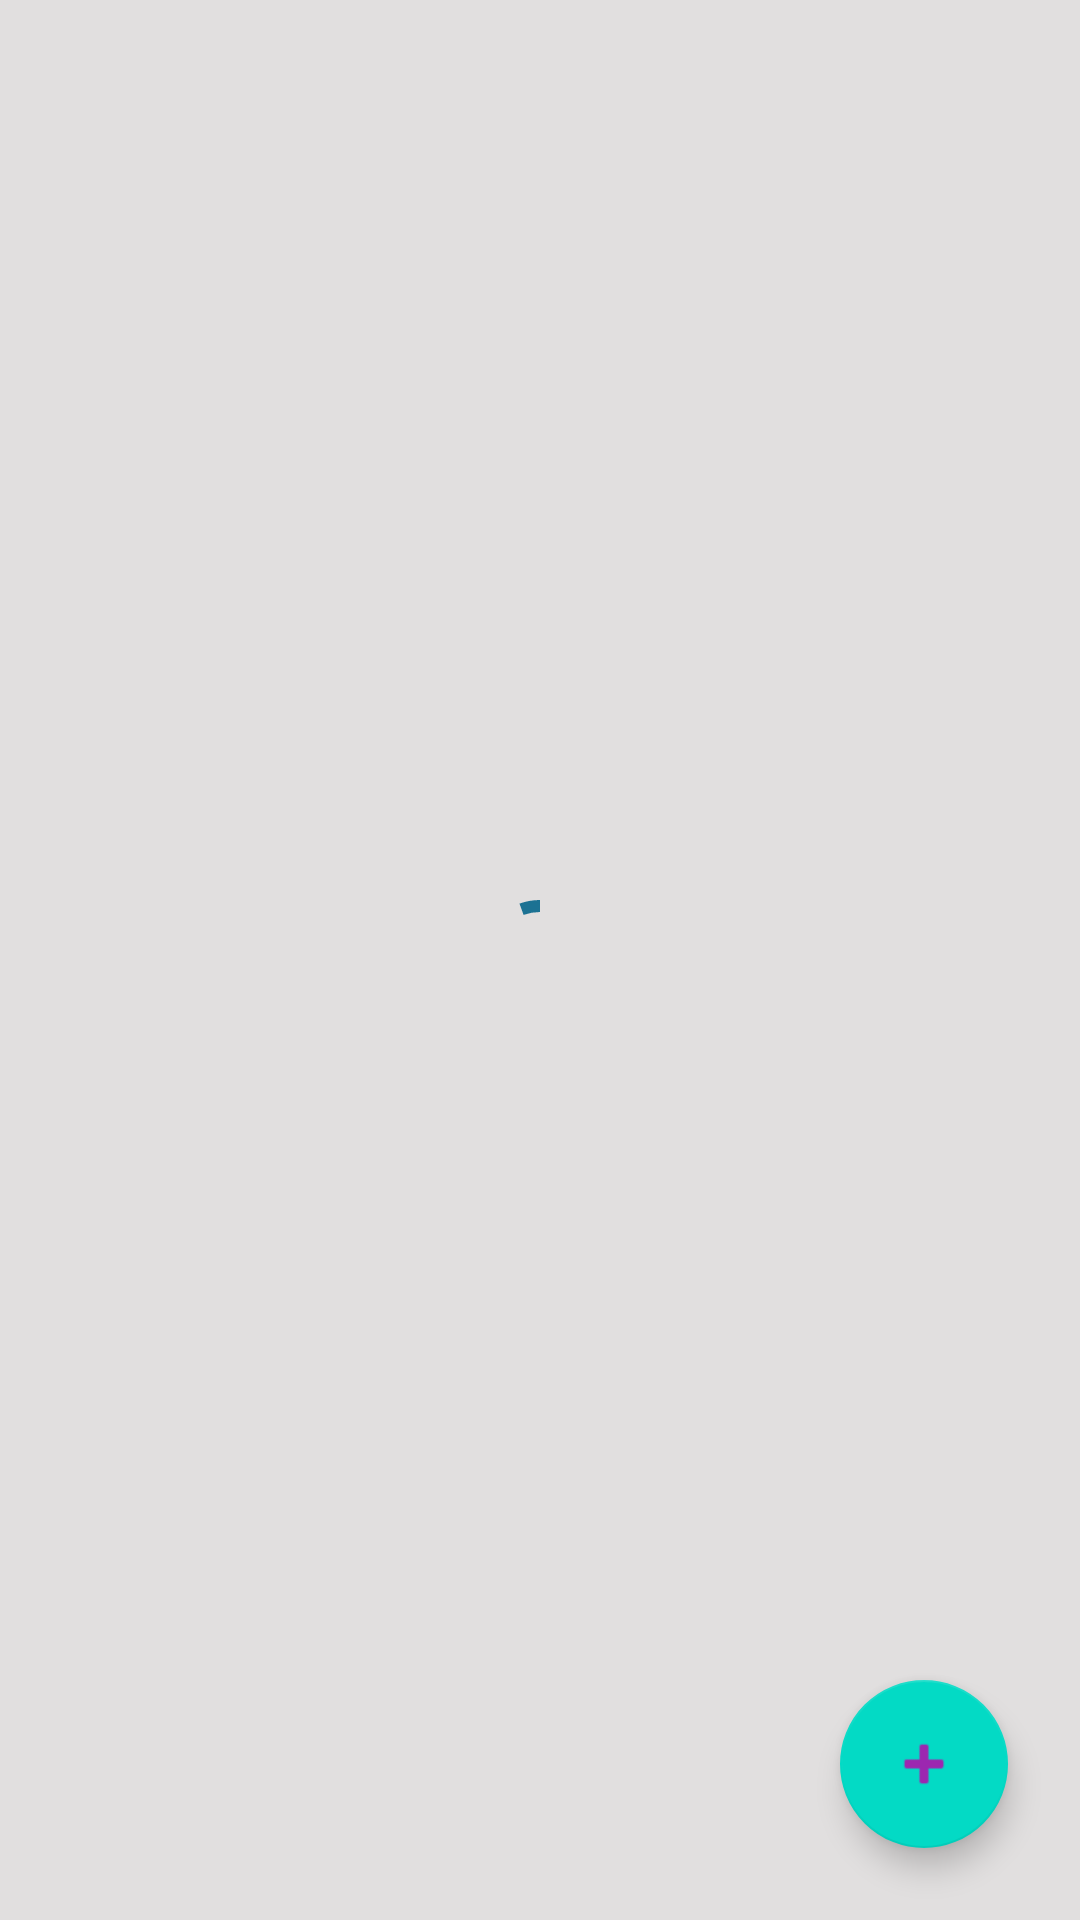

Icons on this 1080*1920 Android screen, each with its box as BBox(x1, y1, x2, y2):
add a new product: BBox(840, 1680, 1008, 1848)
